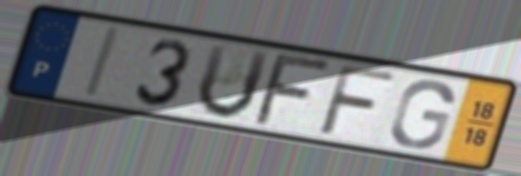3: (132, 37, 193, 109)
F: (248, 52, 338, 129), (314, 61, 400, 141)
G: (386, 78, 457, 151)
I: (79, 24, 125, 102)
U: (193, 41, 275, 122)
